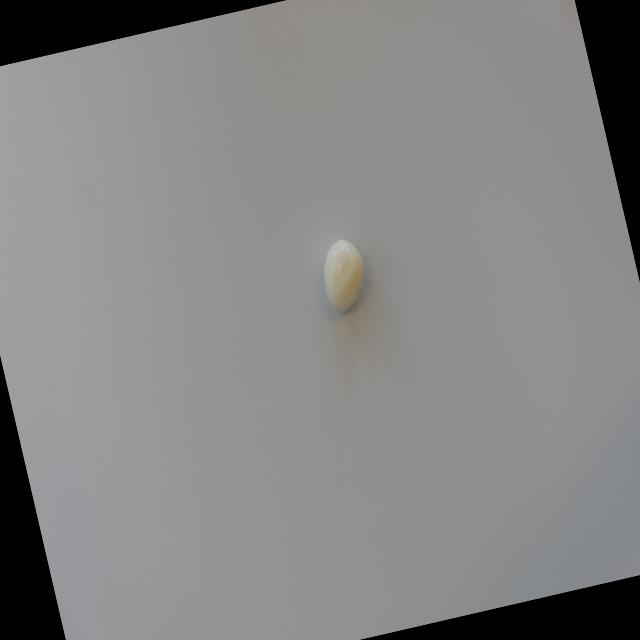Jelly_White: (315, 234, 374, 314)
